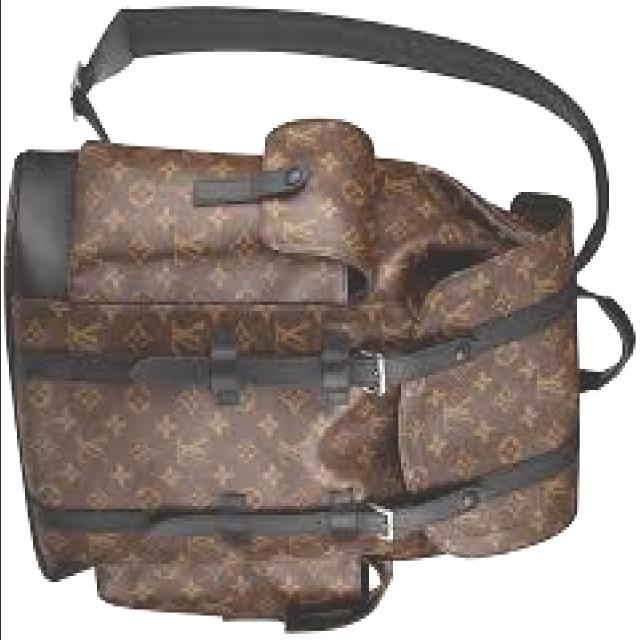backpack: (7, 4, 639, 632)
